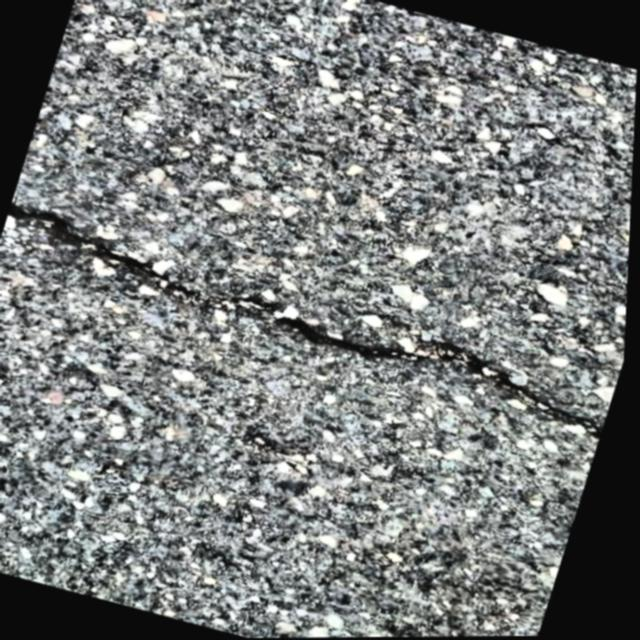Clogged Drains: (9, 202, 606, 439)
